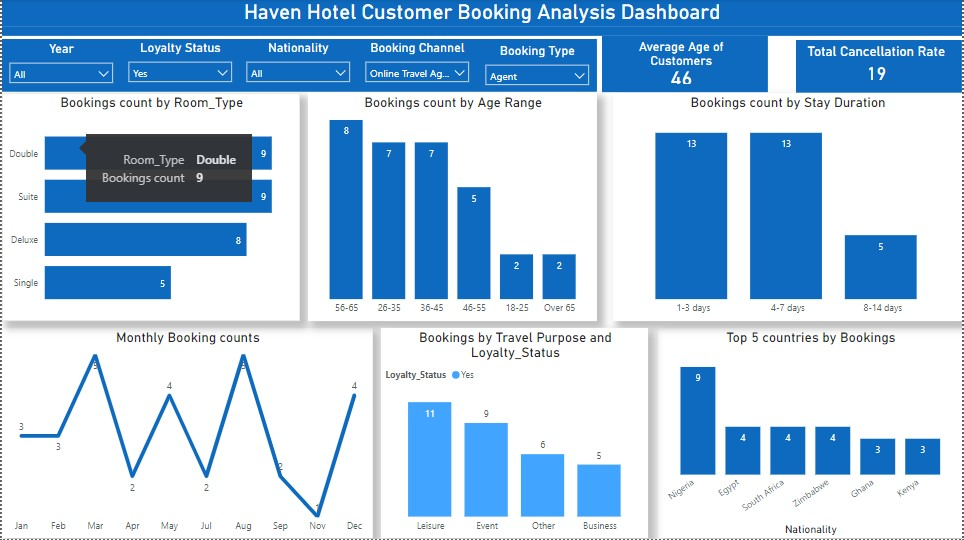

This screenshot's page, from the dashboard's own definition file:
{"tool":"powerbi","page":{"name":"Customer Analysis","canvas":[1280,720],"ordinal":1},"visuals":[{"type":"shape","box":[1058.6,55,221.4,70],"z":0,"group":"g1"},{"type":"lineChart","title":"Monthly Booking counts","fields":{"Y":["Measures Table.Bookings count"],"Category":["DateTable.Month_Name"]},"box":[0,438.6,493.6,280.5],"z":0},{"type":"card","title":"Total Cancellation Rate","fields":{"Values":["Measures Table.Cancellation rate"]},"box":[1068.2,59.5,195.2,59.8],"z":1000,"group":"g1"},{"type":"columnChart","title":"Top 5 countries by Bookings","fields":{"Y":["Measures Table.Bookings count"],"Category":["Customer Table.Nationality"]},"box":[874.4,438.6,405.6,280.5],"z":1000},{"type":"barChart","fields":{"Y":["Measures Table.Bookings count"],"Category":["Booking Table.Room_Type"]},"box":[0,125.1,397.3,303.8],"z":2000},{"type":"columnChart","fields":{"Y":["Measures Table.Bookings count"],"Category":["Customer Table.Age Range"]},"box":[408.3,125.1,385,303.8],"z":3000},{"type":"shape","box":[0,53.6,793.3,70.1],"z":3500},{"type":"columnChart","fields":{"Category":["Booking Table.Stay Duration"],"Y":["Measures Table.Bookings count"]},"box":[815.3,125.1,464.7,303.8],"z":4000},{"type":"columnChart","title":"Bookings by Travel Purpose and Loyalty_Status","fields":{"Category":["Customer Table.Travel_Purpose"],"Series":["Customer Table.Loyalty_Status"],"Y":["Measures Table.Bookings count"]},"box":[506,438.6,356.1,280.5],"z":5000},{"type":"shape","box":[800.2,49.5,221.4,74.8],"z":6000,"group":"g2"},{"type":"group","id":"g1","title":"Group 1","box":[1058.6,55,221.4,70.1],"z":7000},{"type":"group","id":"g2","title":"Group 2","box":[800.2,49.5,221.4,75.6],"z":8000},{"type":"card","title":"Average Age of Customers","fields":{"Values":["Avg(Customer Table.Age)"]},"box":[812,53.9,187,64.6],"z":8000,"group":"g2"},{"type":"shape","title":"Haven Hotel Customer Booking Analysis Dashboard","box":[0,0,1280,49.5],"z":9000},{"type":"slicer","title":"Booking Type","fields":{"Values":["Channel Table.Channel_Type"]},"box":[635.2,59.1,158.1,61.9],"z":17500},{"type":"slicer","title":"Booking Channel","fields":{"Values":["Channel Table.Booking_Channel"]},"box":[474.3,55,158.1,61.9],"z":22500},{"type":"slicer","title":"Nationality","fields":{"Values":["Customer Table.Nationality"]},"box":[316.2,55,158.1,61.9],"z":27000},{"type":"slicer","title":"Loyalty Status","fields":{"Values":["Customer Table.Loyalty_Status"]},"box":[158.1,55,158.1,61.9],"z":30500},{"type":"slicer","title":"Year","fields":{"Values":["DateTable.Year"]},"box":[0,56.4,158.1,61.9],"z":33000}]}

Visuals, with their boxes in screenshot pixels (x1, y1, x2, y2), scaled from the page's 1280x720 canvas onto the 964x540 screenshot:
shape: [left=797, top=41, right=963, bottom=94]
"Monthly Booking counts" lineChart: [left=0, top=329, right=372, bottom=539]
"Total Cancellation Rate" card: [left=804, top=45, right=951, bottom=89]
"Top 5 countries by Bookings" columnChart: [left=659, top=329, right=963, bottom=539]
barChart - Measures Table.Bookings count x Booking Table.Room_Type: [left=0, top=94, right=299, bottom=322]
columnChart - Measures Table.Bookings count x Customer Table.Age Range: [left=308, top=94, right=597, bottom=322]
shape: [left=0, top=40, right=597, bottom=93]
columnChart - Booking Table.Stay Duration x Measures Table.Bookings count: [left=614, top=94, right=963, bottom=322]
"Bookings by Travel Purpose and Loyalty_Status" columnChart: [left=381, top=329, right=649, bottom=539]
shape: [left=603, top=37, right=769, bottom=93]
"Group 1" group: [left=797, top=41, right=963, bottom=94]
"Group 2" group: [left=603, top=37, right=769, bottom=94]
"Average Age of Customers" card: [left=612, top=40, right=752, bottom=89]
"Haven Hotel Customer Booking Analysis Dashboard" shape: [left=0, top=0, right=963, bottom=37]
"Booking Type" slicer: [left=478, top=44, right=597, bottom=91]
"Booking Channel" slicer: [left=357, top=41, right=476, bottom=88]
"Nationality" slicer: [left=238, top=41, right=357, bottom=88]
"Loyalty Status" slicer: [left=119, top=41, right=238, bottom=88]
"Year" slicer: [left=0, top=42, right=119, bottom=89]
